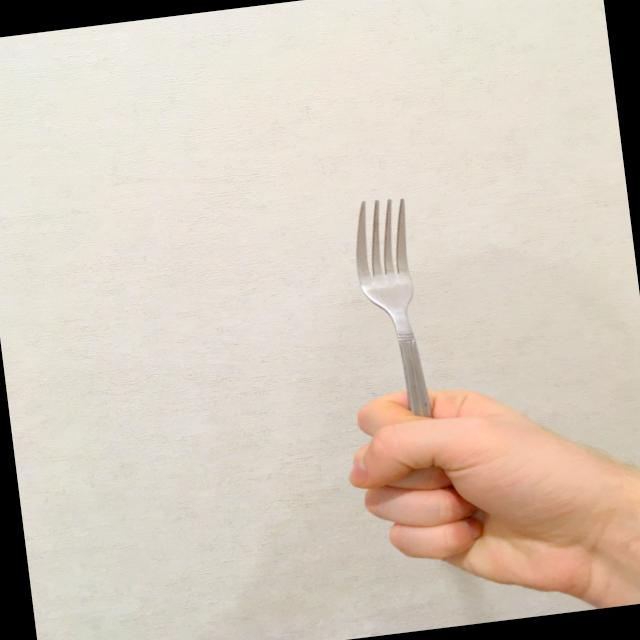fork: (344, 192, 440, 458)
